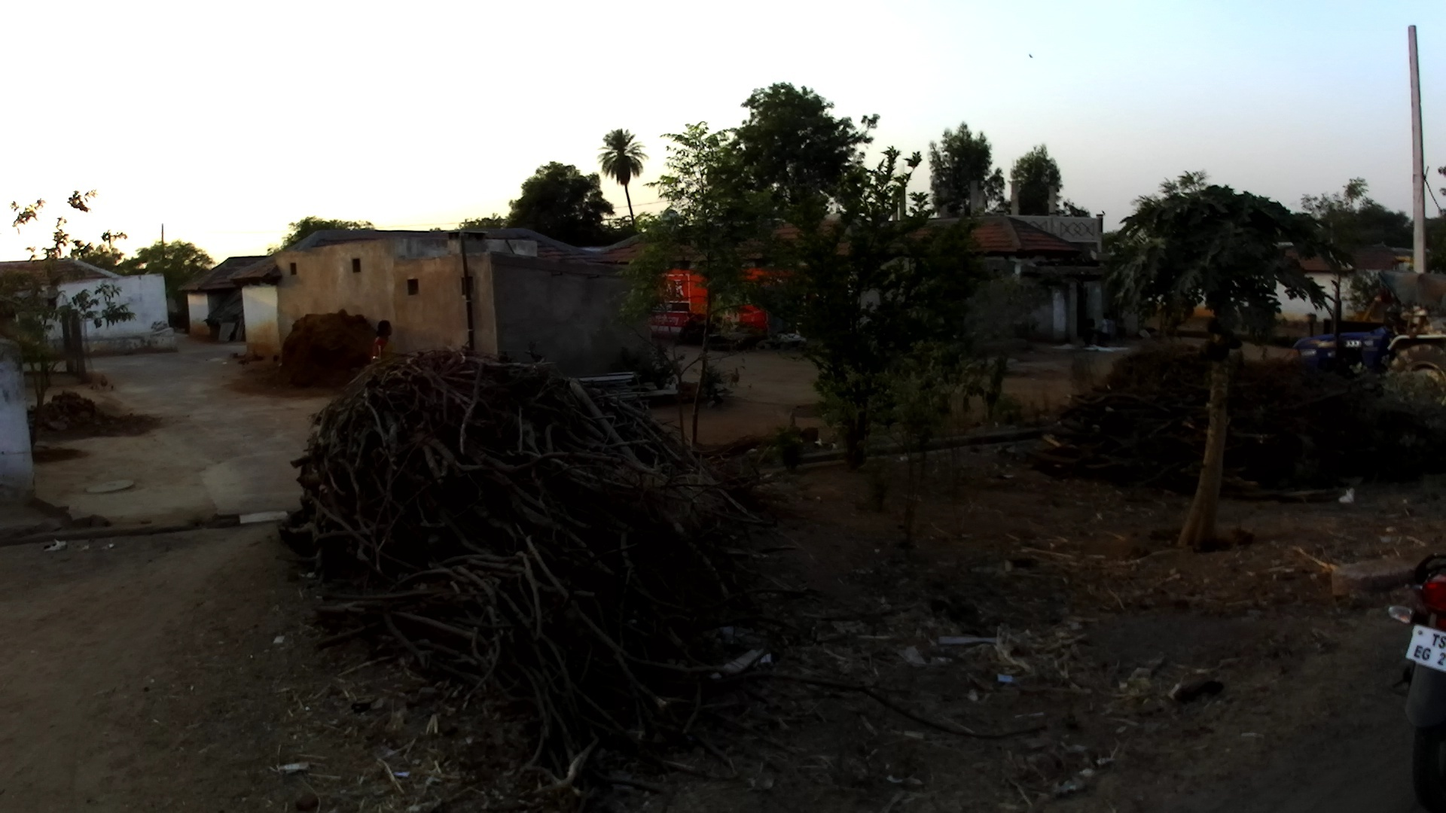motorcycle: (1387, 553, 1446, 799)
person: (1082, 317, 1098, 347), (1098, 312, 1112, 346)
vehicle fallback: (1292, 268, 1446, 385)
